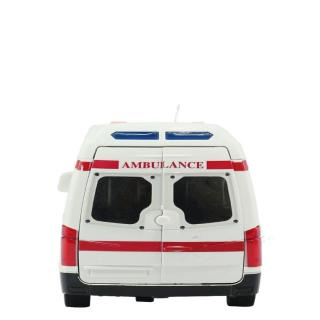Ambulance: (36, 104, 286, 316)
